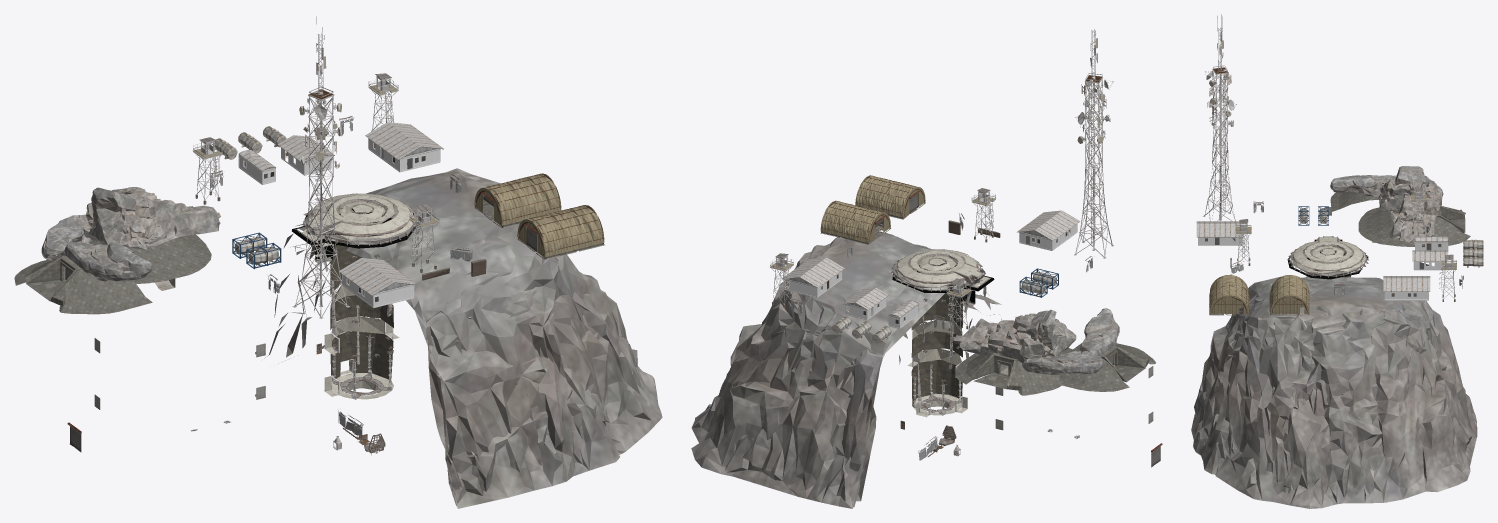
File: nuclear_missile_silo-map.glb
The picture shows the model from 3 angles, left to right: view 1: azimuth 30°, elevation 25°; view 2: azimuth 150°, elevation 25°; view 3: azimuth 270°, elevation 25°; orthographic projection. The views are drawn at different scales.
Parts seen in each view (by area): view 1: cliff_tall_b_LOD0, cliff_tall_a_LOD0, nuclear_silo_bunker_hatch_LOD0, cliff_tall_c_LOD0, military_hangar_1350x1100_LOD0, portacabin_900_1200_a_LOD0, nuclear_silo_chute_walls_LOD0, rock_formation_huge_e_LOD0, rock_formation_huge_b_LOD0, rock_formation_huge_d_LOD0, fuel_tank_a_600 (1), chainlink_fence_3x3_gate_LOD0 (+1 smaller); view 2: cliff_tall_a_LOD0, cliff_tall_c_LOD0, nuclear_silo_bunker_hatch_LOD0, military_hangar_1350x1100_LOD0, cliff_tall_b_LOD0, portacabin_900_1200_a_LOD0, nuclear_silo_chute_walls_LOD0, rock_formation_huge_d_LOD0, rock_formation_huge_e_LOD0, fuel_tank_a_600 (1), nuclear_silo_tunnel_exit_garage_LOD0, rock_formation_huge_b_LOD0 (+1 smaller); view 3: cliff_tall_c_LOD0, cliff_tall_a_LOD0, cliff_tall_b_LOD0, nuclear_silo_bunker_hatch_LOD0, military_hangar_1350x1100_LOD0, portacabin_900_1200_a_LOD0, rock_formation_huge_d_LOD0, rock_formation_huge_b_LOD0, rock_formation_huge_e_LOD0, fuel_tank_a_600 (1), chainlink_fence_3x3_gate_LOD0, watchtower_b_LOD0 (+1 smaller).
Part boxes in pixels (box(x1,y1,x2,y2)): cliff_tall_b_LOD0: box(278, 171, 607, 506); cliff_tall_a_LOD0: box(264, 168, 641, 508); nuclear_silo_bunker_hatch_LOD0: box(64, 16, 439, 453); cliff_tall_c_LOD0: box(283, 172, 662, 505); military_hangar_1350x1100_LOD0: box(14, 131, 604, 314); portacabin_900_1200_a_LOD0: box(238, 122, 443, 364); nuclear_silo_chute_walls_LOD0: box(330, 225, 393, 395); rock_formation_huge_e_LOD0: box(41, 214, 152, 281); rock_formation_huge_b_LOD0: box(89, 187, 167, 247); rock_formation_huge_d_LOD0: box(83, 187, 220, 249); fuel_tank_a_600 (1): box(214, 126, 286, 269); chainlink_fence_3x3_gate_LOD0: box(209, 116, 472, 438); cliff_tall_a_LOD0: box(724, 237, 1001, 508); cliff_tall_c_LOD0: box(691, 236, 1001, 507); nuclear_silo_bunker_hatch_LOD0: box(770, 29, 1114, 456); military_hangar_1350x1100_LOD0: box(772, 175, 1155, 395); cliff_tall_b_LOD0: box(785, 231, 990, 501); portacabin_900_1200_a_LOD0: box(782, 210, 1079, 401); nuclear_silo_chute_walls_LOD0: box(911, 274, 962, 414); rock_formation_huge_d_LOD0: box(952, 315, 1051, 362); rock_formation_huge_e_LOD0: box(1022, 308, 1119, 374); fuel_tank_a_600 (1): box(832, 268, 1058, 343); nuclear_silo_tunnel_exit_garage_LOD0: box(972, 346, 1149, 390); rock_formation_huge_b_LOD0: box(1024, 309, 1076, 356); cliff_tall_c_LOD0: box(1198, 277, 1470, 508); cliff_tall_a_LOD0: box(1191, 282, 1477, 504); cliff_tall_b_LOD0: box(1194, 276, 1441, 464); nuclear_silo_bunker_hatch_LOD0: box(1203, 14, 1456, 299); military_hangar_1350x1100_LOD0: box(1209, 192, 1470, 315); portacabin_900_1200_a_LOD0: box(1196, 221, 1448, 300); rock_formation_huge_d_LOD0: box(1387, 178, 1442, 243); rock_formation_huge_b_LOD0: box(1378, 166, 1425, 210); rock_formation_huge_e_LOD0: box(1330, 175, 1443, 205); fuel_tank_a_600 (1): box(1298, 206, 1483, 267); chainlink_fence_3x3_gate_LOD0: box(1231, 201, 1463, 295); watchtower_b_LOD0: box(1236, 187, 1456, 269).
Bounding box in the file's own units: 127 × 109 × 79.71.
Materials: 52 (52 with a texture image).
